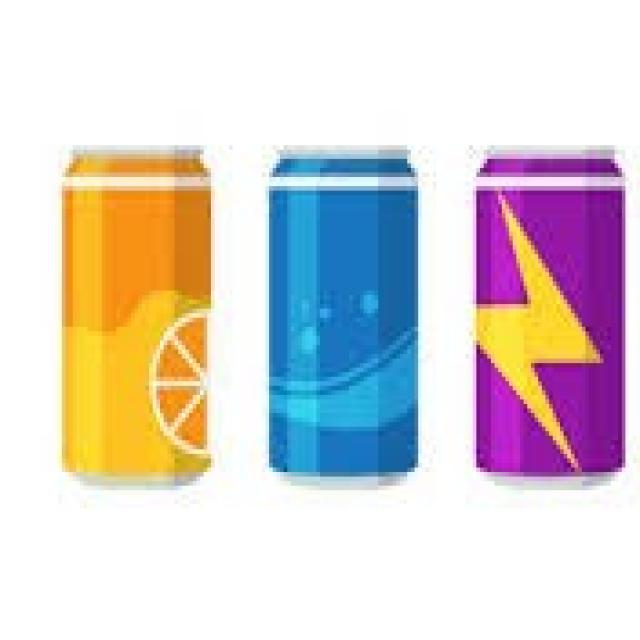Cans: (458, 127, 640, 495), (251, 132, 436, 494), (51, 127, 225, 495)
